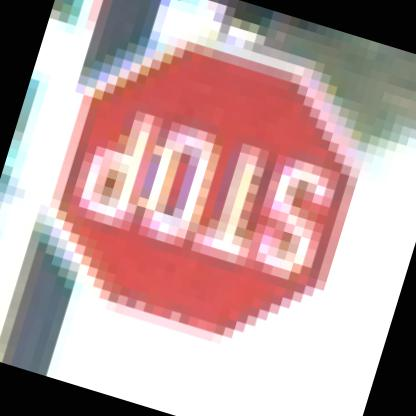stop: (13, 0, 400, 376)
